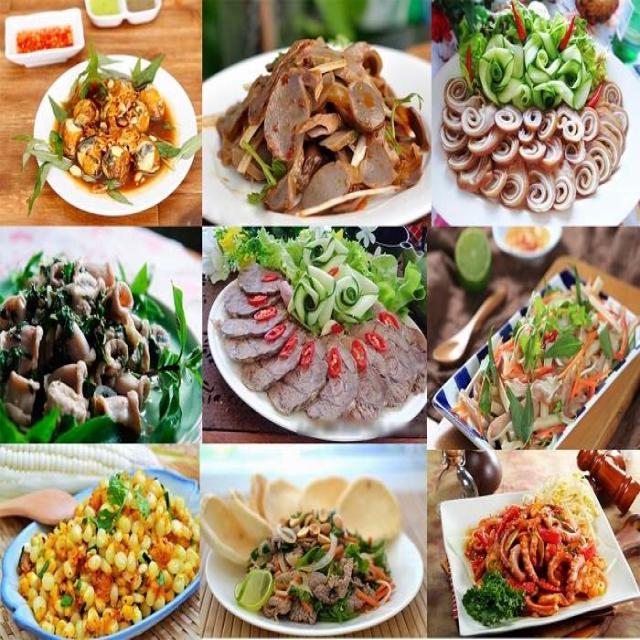bach tuoc xao sa te: (443, 497, 620, 618)
bap xao: (2, 467, 202, 640)
cut lon xao me: (18, 64, 196, 207)
goi bo: (220, 461, 409, 640)
goi tai heo: (435, 244, 635, 441)
long xao: (0, 237, 187, 438)
mam ot: (7, 15, 78, 55)
me ga: (202, 21, 430, 223)
muoi tieu chanh: (132, 0, 154, 18)
muoi tieu xanh: (94, 0, 120, 21)
nam bo hap: (217, 240, 428, 434)
tai heo ngu vi: (435, 21, 639, 222)
